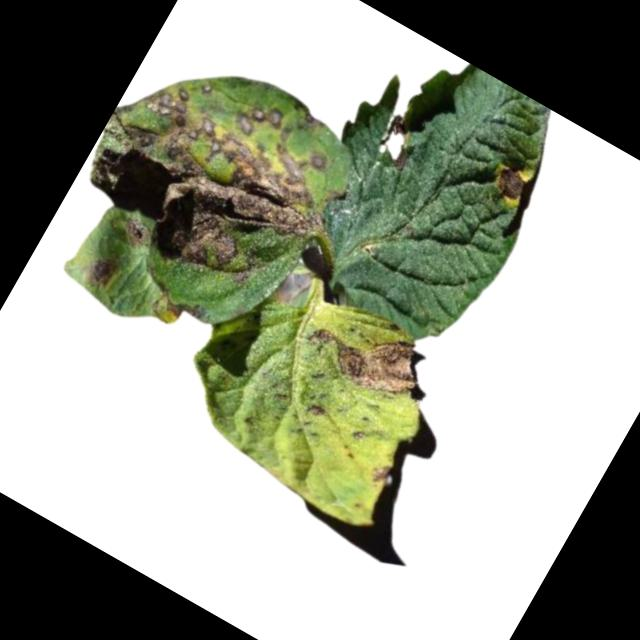Early_blight: (65, 40, 360, 315), (297, 296, 433, 413), (371, 111, 425, 173), (148, 285, 205, 335), (486, 159, 532, 208), (114, 213, 154, 252), (81, 252, 120, 291), (368, 462, 392, 488), (306, 400, 328, 422)
